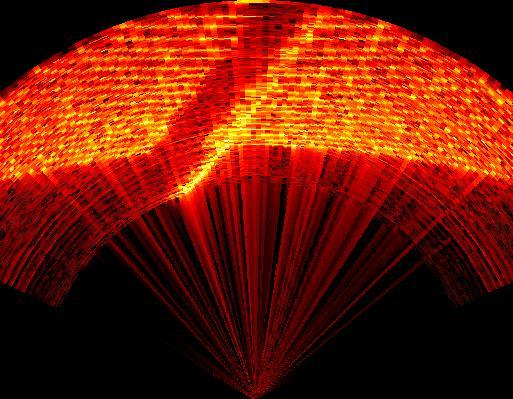pipe: (137, 3, 318, 194)
